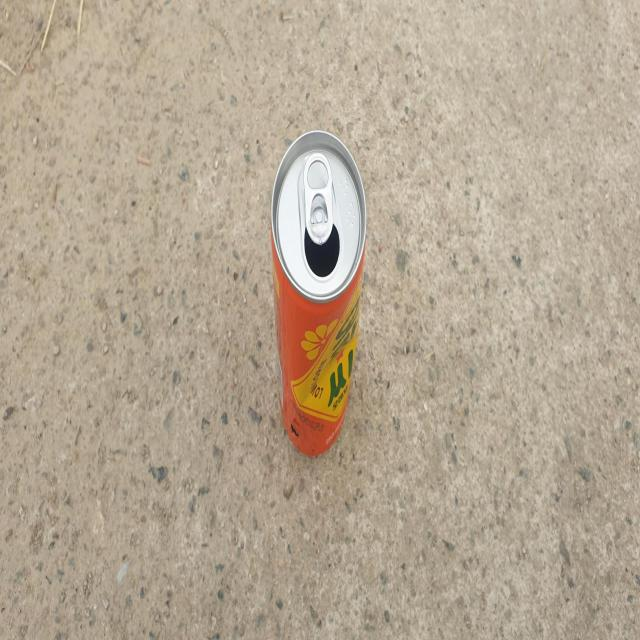can: (271, 129, 367, 455)
